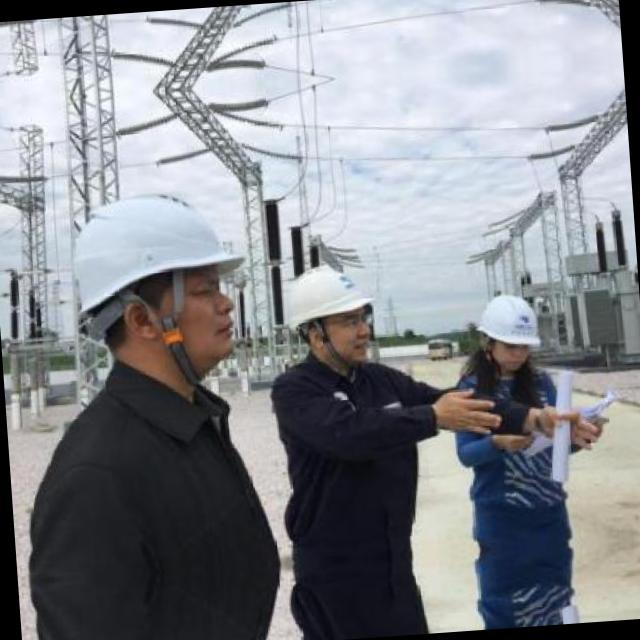helmet: (42, 169, 264, 392), (278, 254, 389, 376), (469, 284, 542, 372)
